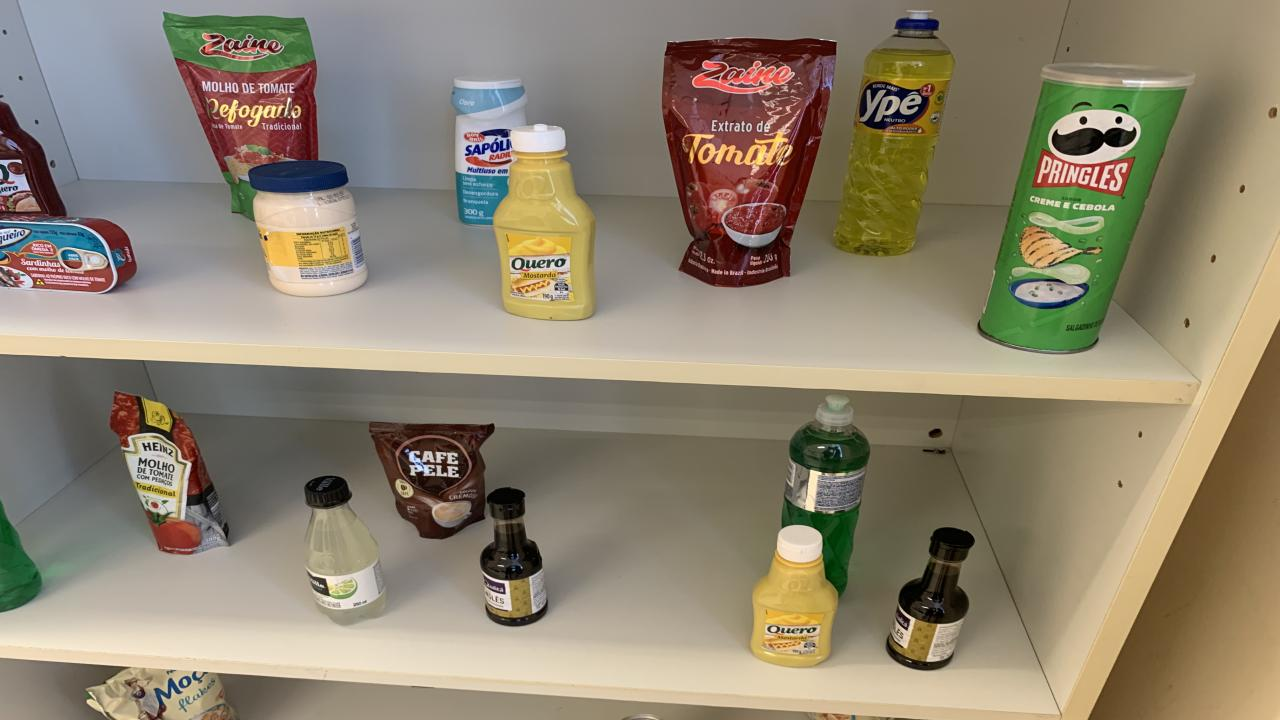Cleaner-Cleanup_Items: (450, 77, 528, 227)
Coffee-Pantry_Items: (370, 422, 495, 538)
Detergent-Cleanup_Items: (835, 9, 955, 255), (782, 394, 870, 592), (0, 502, 42, 611)
English_Sauce-Pantry_Items: (885, 527, 975, 669), (480, 488, 548, 626)
Flakes-Snacks: (88, 668, 238, 720)
Ketchup-Pantry_Items: (0, 101, 65, 216)
Mayonnaise-Pantry_Items: (248, 159, 368, 296)
Mustard-Pantry_Items: (492, 124, 595, 321), (750, 525, 838, 668)
Pringles-Snacks: (980, 64, 1192, 352)
Soda-Drinks: (305, 476, 385, 624)
Tomato_Sauce-Pantry_Items: (662, 38, 835, 287), (162, 13, 318, 218), (110, 392, 228, 555)
Tuna_Can-Pantry_Items: (0, 212, 138, 292)
